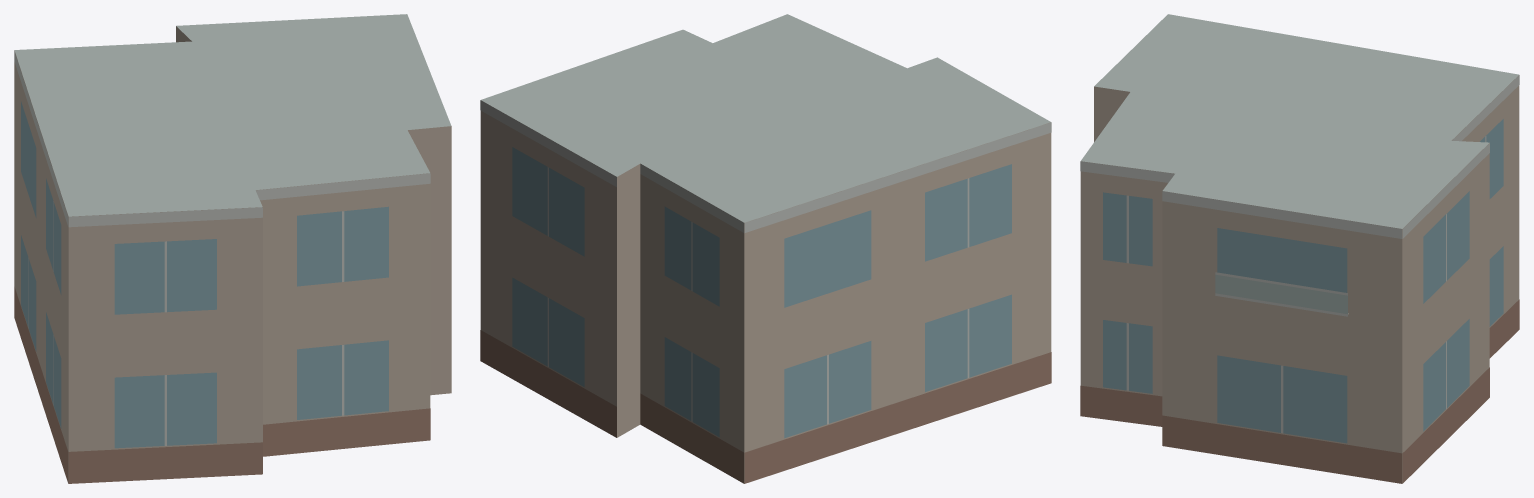
File: survey-upis-32586538.glb
3 views of the same model, side by side, from view 1: azimuth 30°, elevation 25°; view 2: azimuth 150°, elevation 25°; view 3: azimuth 270°, elevation 25° (orthographic). The views are drawn at different scales.
Visible parts, largest first — view 1: survey-upis-32586538.tmp; view 2: survey-upis-32586538.tmp; view 3: survey-upis-32586538.tmp.
Part boxes in pixels (x1=…): survey-upis-32586538.tmp: x1=14, y1=14, x2=451, y2=483; survey-upis-32586538.tmp: x1=480, y1=14, x2=1051, y2=483; survey-upis-32586538.tmp: x1=1080, y1=14, x2=1519, y2=483.
Size of the model in its own units: 11.04 by 6.1 by 9.53.
